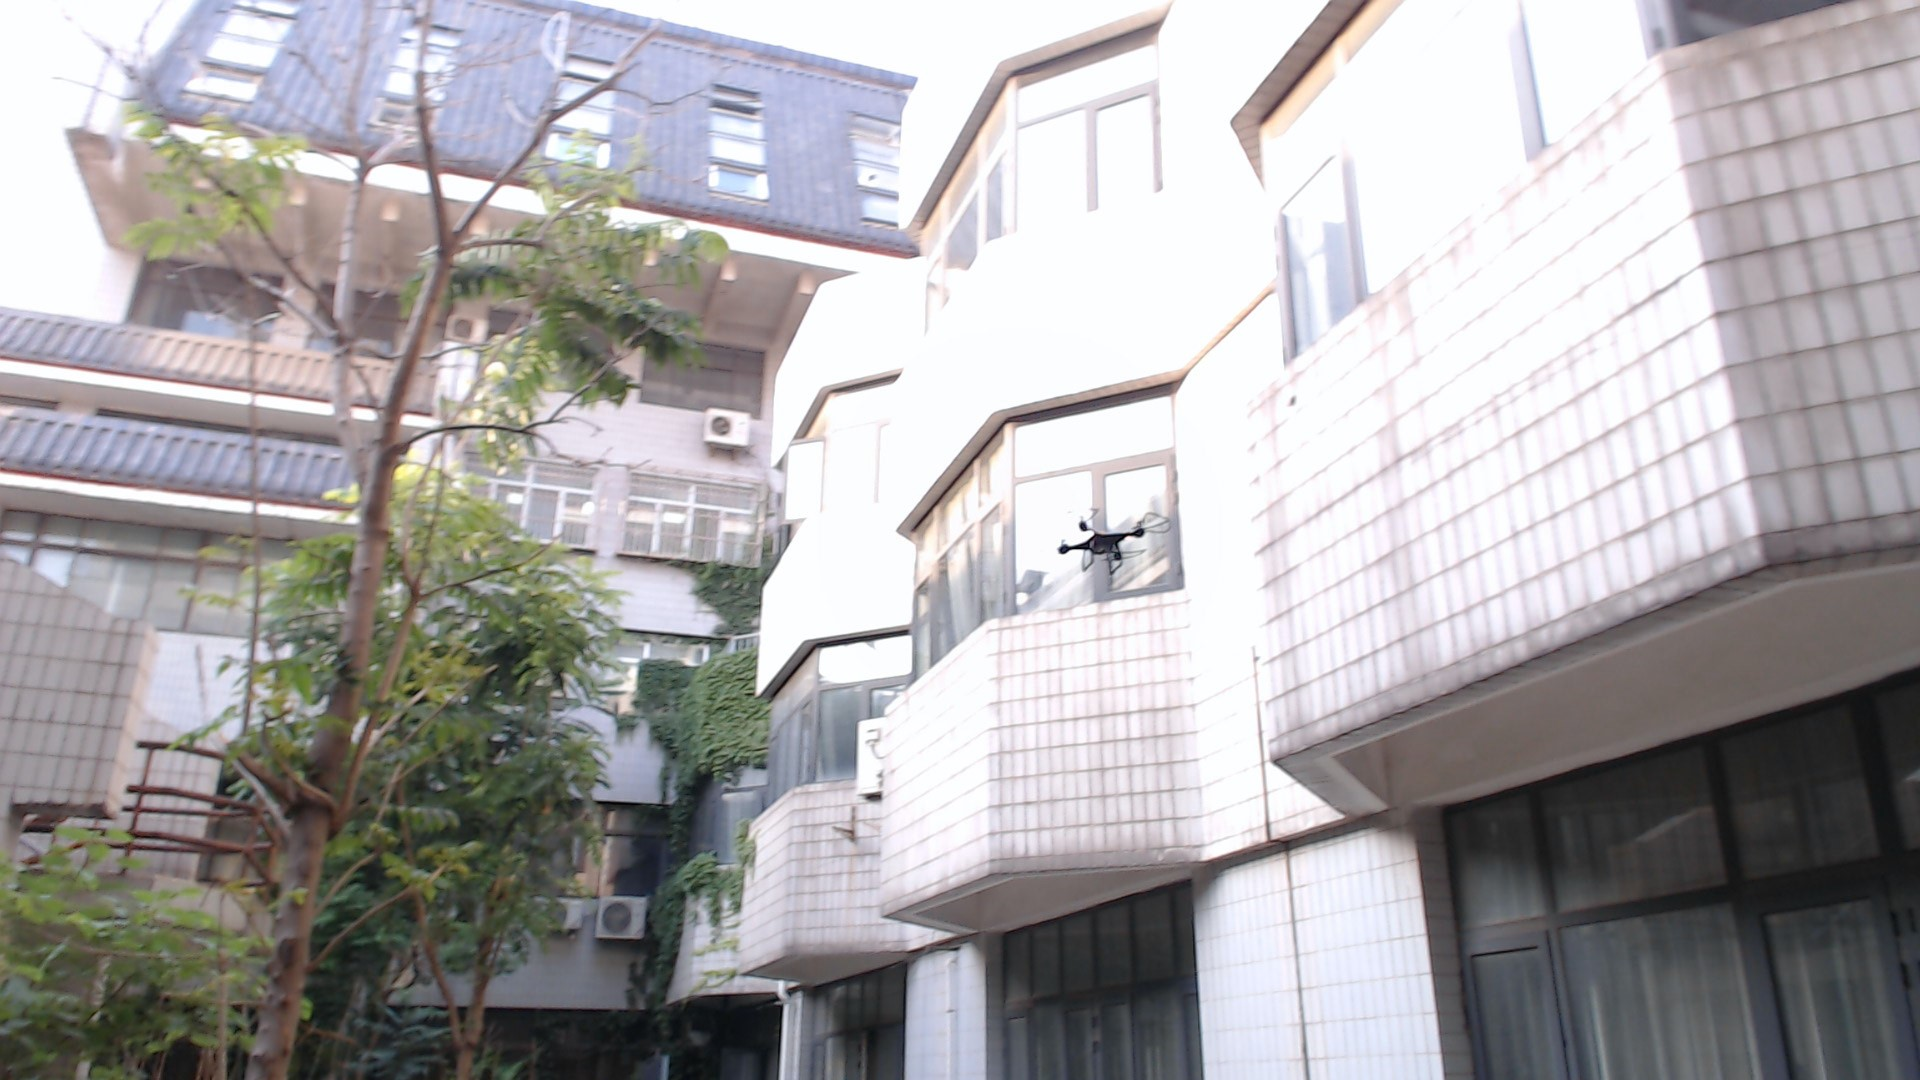drone: (1040, 493, 1183, 593)
